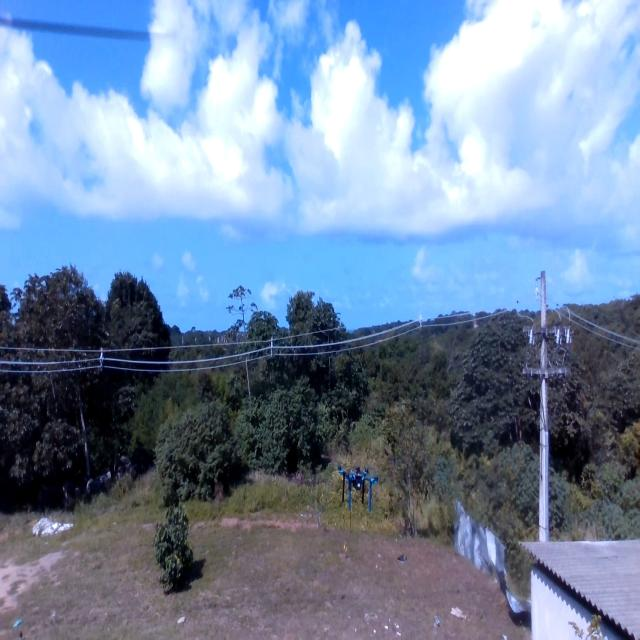-uav-: (338, 462, 382, 513)
